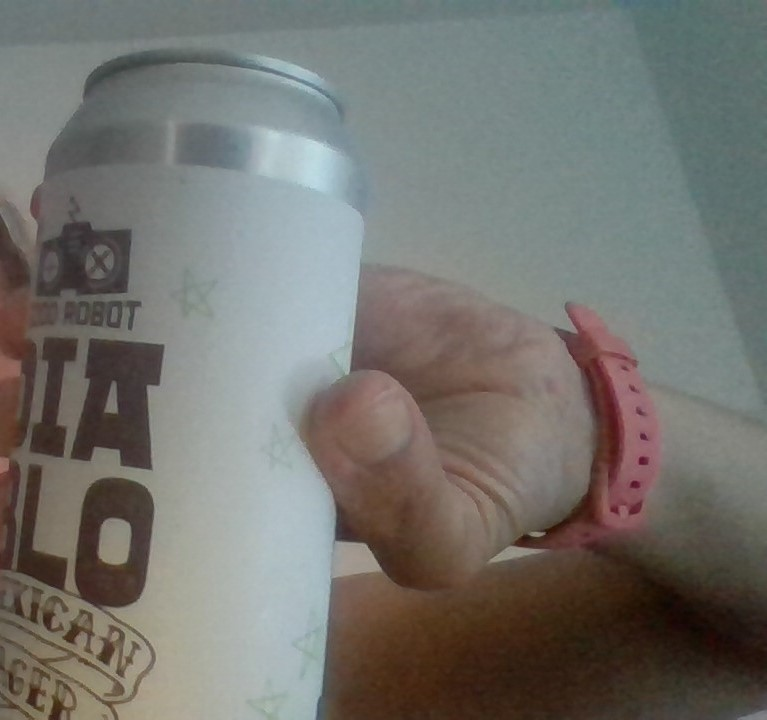Good Robot: (26, 196, 139, 298)
